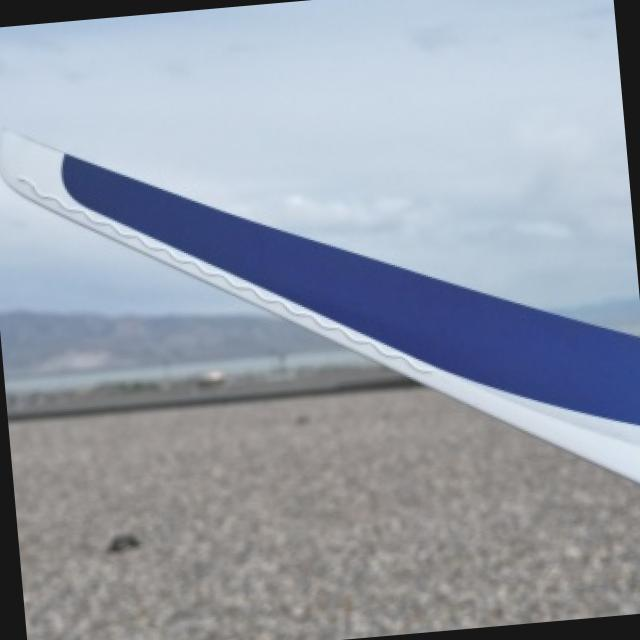healthy: (0, 128, 640, 476), (25, 405, 640, 640)
